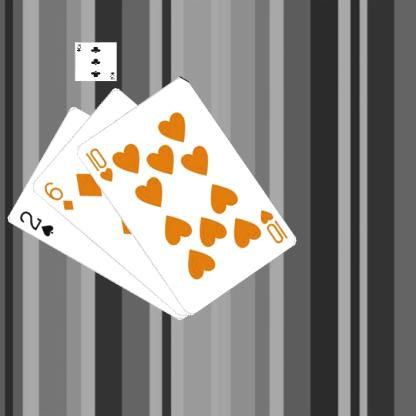10H: (82, 145, 114, 183), (257, 207, 288, 245)
2S: (17, 208, 54, 238)
6D: (41, 179, 75, 212)
